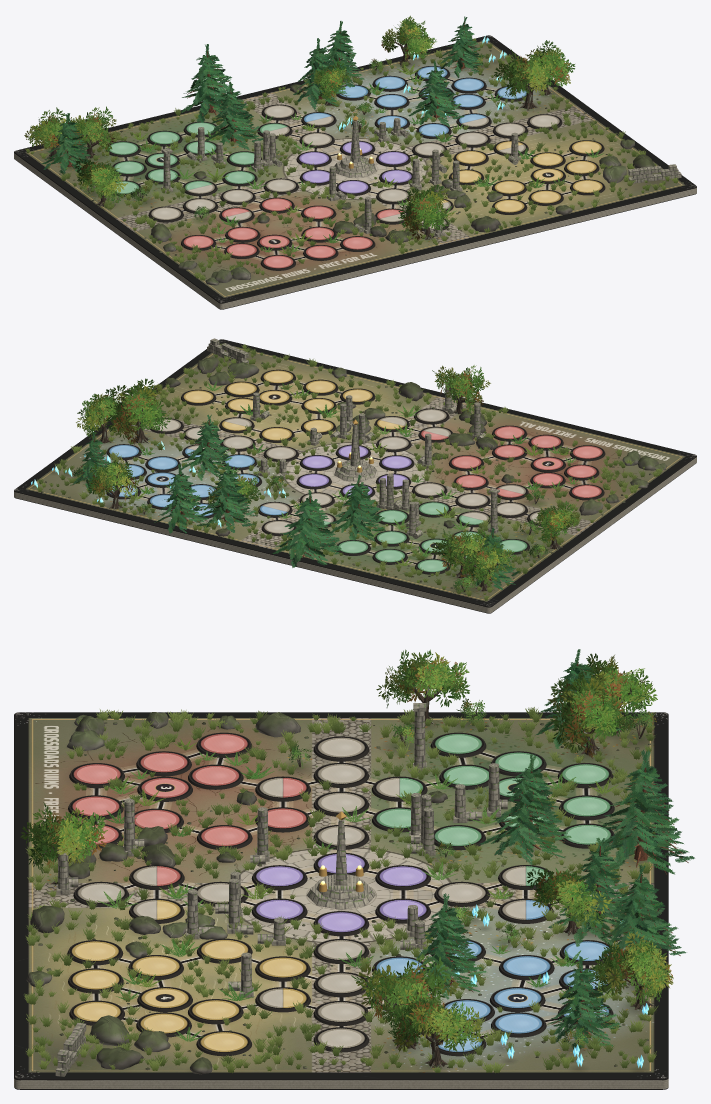
The model's file is cross.glb.
3 views of the same model, one above another, from view 1: azimuth 30°, elevation 25°; view 2: azimuth 150°, elevation 25°; view 3: azimuth 270°, elevation 25° (orthographic). The views are drawn at different scales.
Parts seen in each view (by area): view 1: board (×2), scenery (×15); view 2: board (×2), scenery (×16); view 3: board (×54), scenery (×20).
Part boxes in pixels (x1,y1,x2,y2): board (×2): [14, 35, 696, 309]; scenery (×15): [24, 15, 683, 285]; board (×2): [14, 339, 696, 613]; scenery (×16): [36, 338, 666, 600]; board (×54): [14, 712, 668, 1089]; scenery (×20): [20, 649, 694, 1076].
Bounding box in the file's own units: 12.84 × 1.87 × 9.78.
26 materials, 21 textured.
